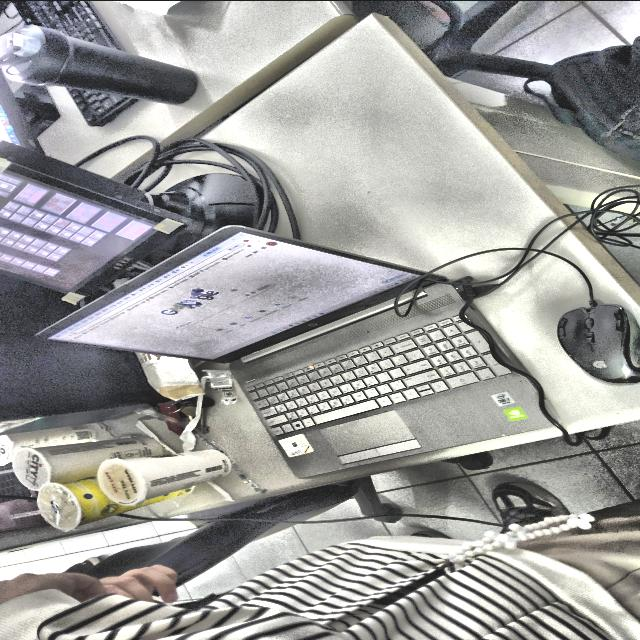laptop: (41, 225, 546, 476), (0, 497, 47, 531), (0, 463, 37, 496)
